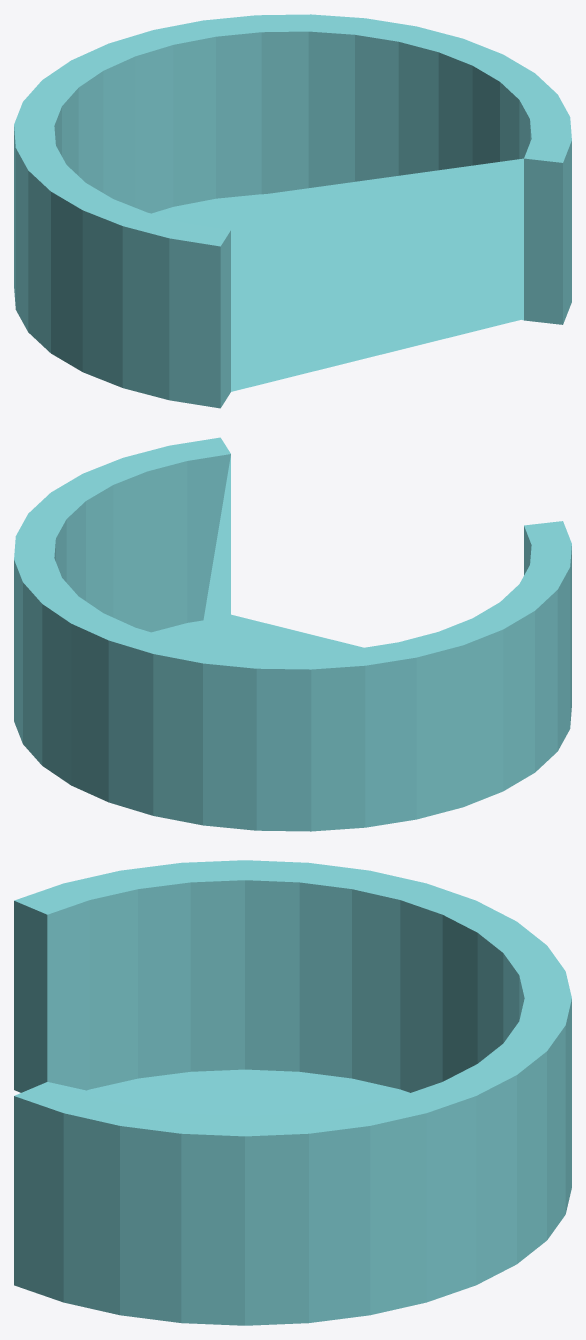
The model's file is TestIgloo.fbx.
3 views of the same model, one above another, from view 1: azimuth 30°, elevation 25°; view 2: azimuth 150°, elevation 25°; view 3: azimuth 270°, elevation 25° (orthographic). The views are drawn at different scales.
Visible parts, largest first — view 1: Cylinder; view 2: Cylinder; view 3: Cylinder.
Part boxes in pixels (<box>): Cylinder: <box>14,14,571,408</box>; Cylinder: <box>14,437,571,831</box>; Cylinder: <box>14,860,571,1325</box>.
Size of the model in its own units: 600 by 192 by 512.
